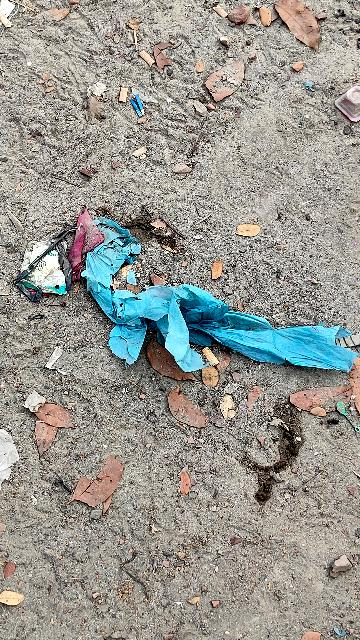polythene: (86, 218, 345, 374)
